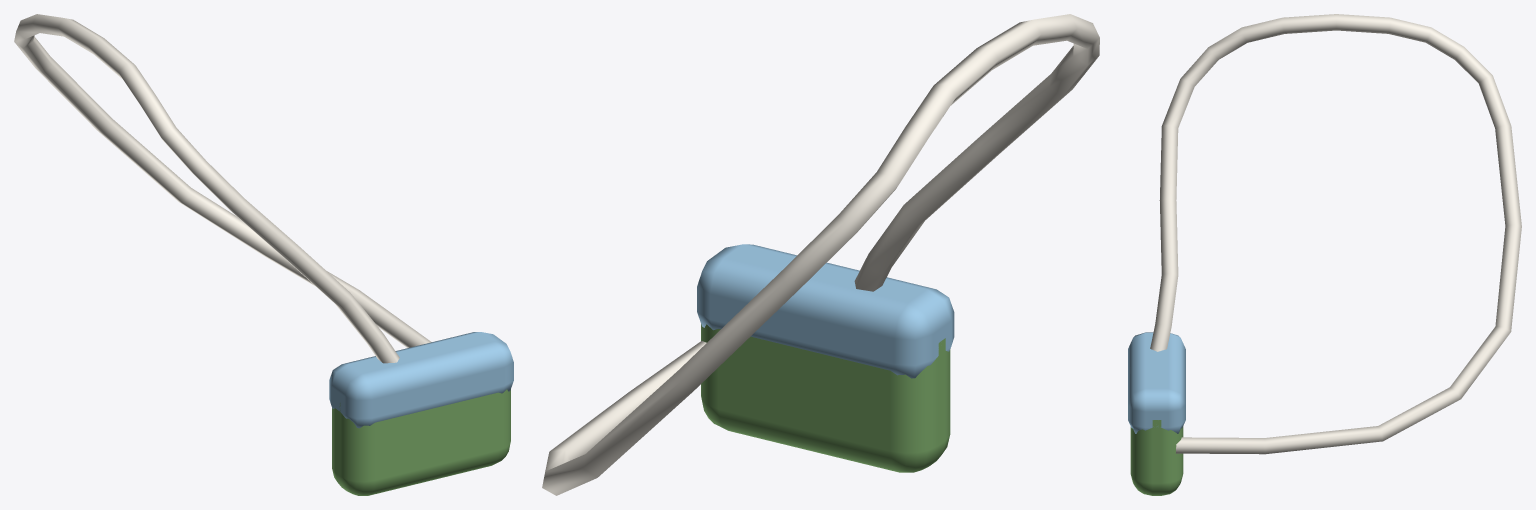
The model's file is bug_cage.glb.
3 renders of one model, left to right at view 1: azimuth 30°, elevation 25°; view 2: azimuth 150°, elevation 25°; view 3: azimuth 270°, elevation 25°, orthographic. The views are drawn at different scales.
Parts seen in each view (by area): view 1: bug_cage_Body; view 2: bug_cage_Body; view 3: bug_cage_Body.
Boxes of the visible parts, bbox=[...] form: bug_cage_Body: bbox=[14, 14, 513, 495]; bug_cage_Body: bbox=[542, 14, 1099, 495]; bug_cage_Body: bbox=[1128, 14, 1521, 495].
Size of the model in its own units: 0.3581 by 0.4541 by 0.4496.
